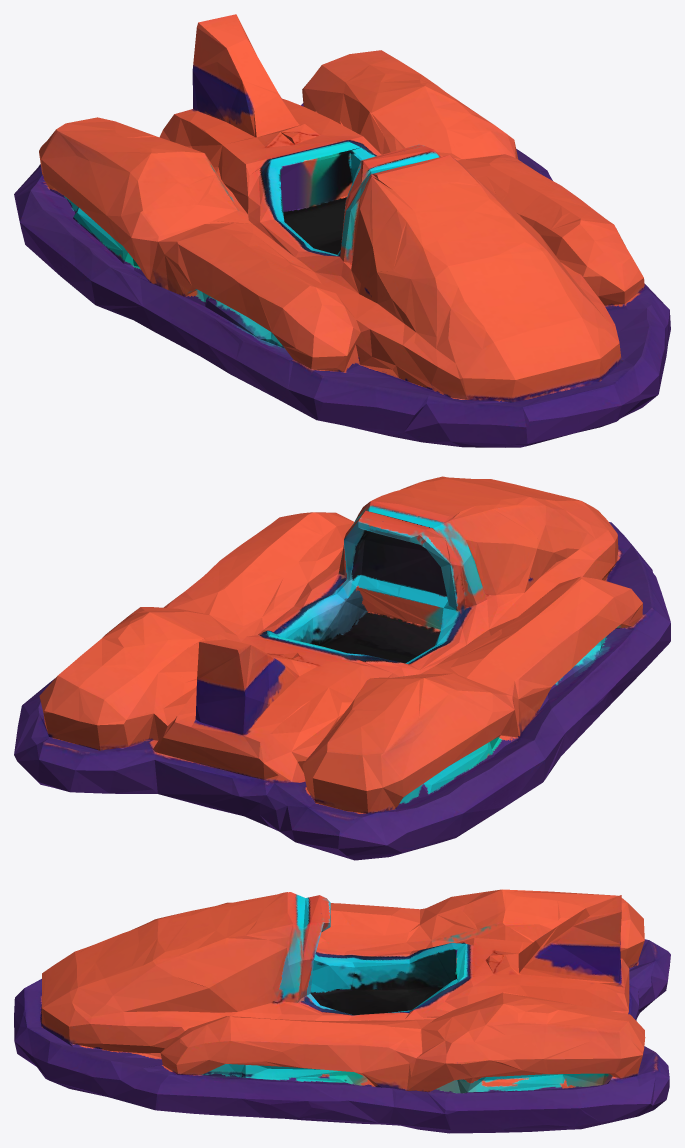
3 views of the same model, one above another, from view 1: azimuth 30°, elevation 25°; view 2: azimuth 150°, elevation 25°; view 3: azimuth 270°, elevation 25° (orthographic). The views are drawn at different scales.
Parts seen in each view (by area): view 1: geometry_0; view 2: geometry_0; view 3: geometry_0.
Part boxes in pixels (<box>): geometry_0: <box>14,14,670,447</box>; geometry_0: <box>14,476,670,860</box>; geometry_0: <box>14,889,670,1133</box>.
Size of the model in its own units: 4.78 by 1.68 by 7.
Materials: 1 (1 with a texture image).
